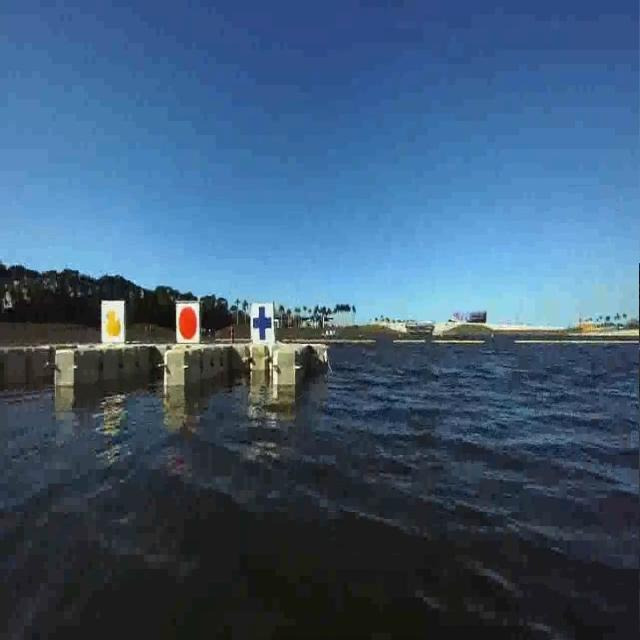blue-cross: (250, 297, 280, 350)
red-dot: (172, 292, 202, 346)
yellow-duck: (96, 291, 128, 346)
